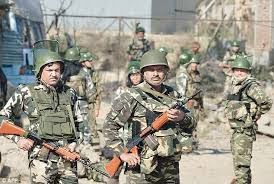gun: (108, 81, 197, 169), (4, 116, 106, 173)
uniform: (17, 82, 79, 180), (117, 80, 180, 174), (221, 73, 260, 176), (69, 62, 97, 137)
